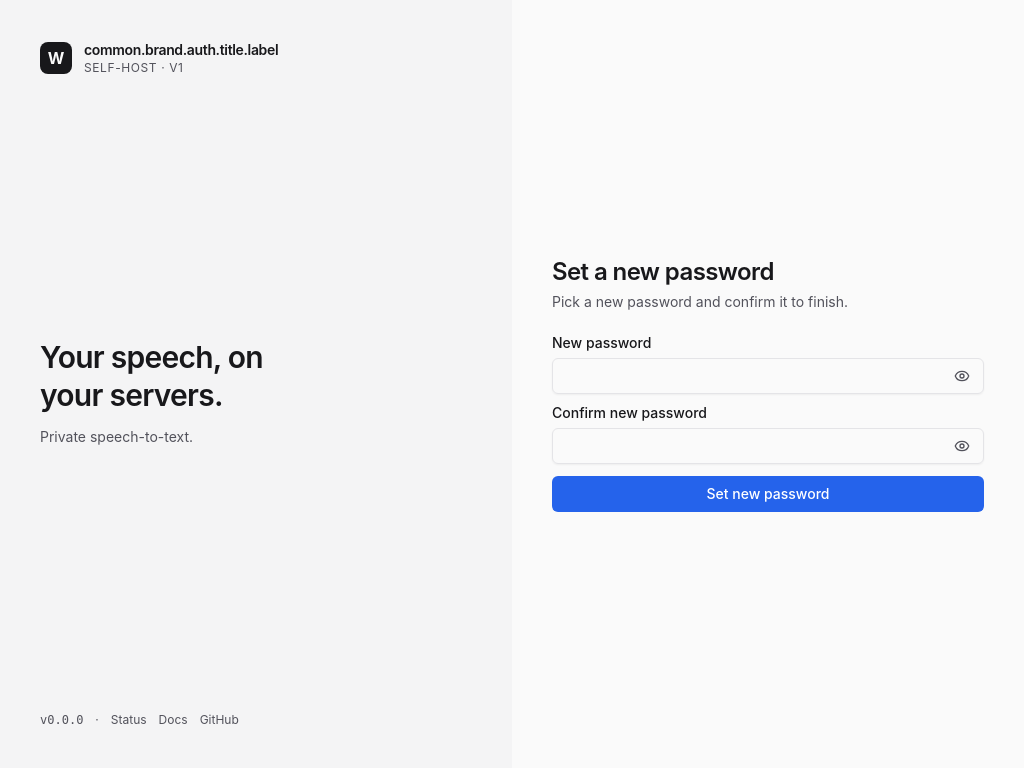
Scenario: ResetPasswordForm (Phase 55-01-a) › zod rejects mismatched newPassword / confirm
This screenshot has width=1024, height=768.
Type "Strong-Pass-9!" into the password field labelled "New password" at (768, 376), box [552,358,984,394]
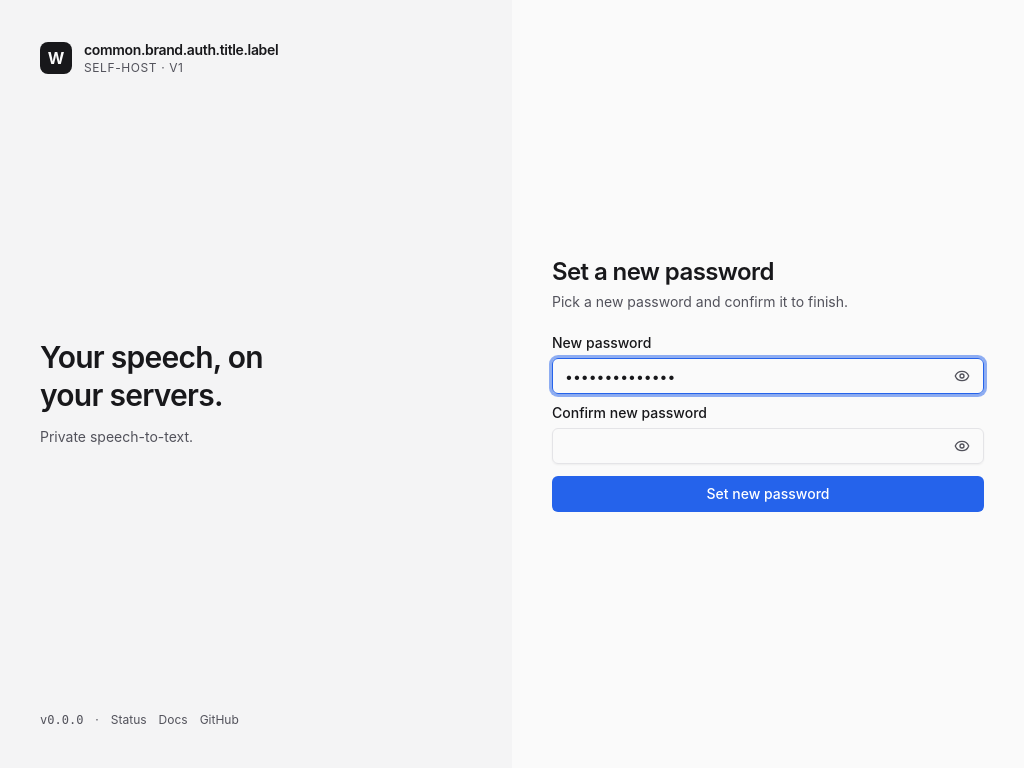
Type "Different-Pass-9!" into the password field labelled "Confirm new password" at (768, 446), box [552,428,984,464]
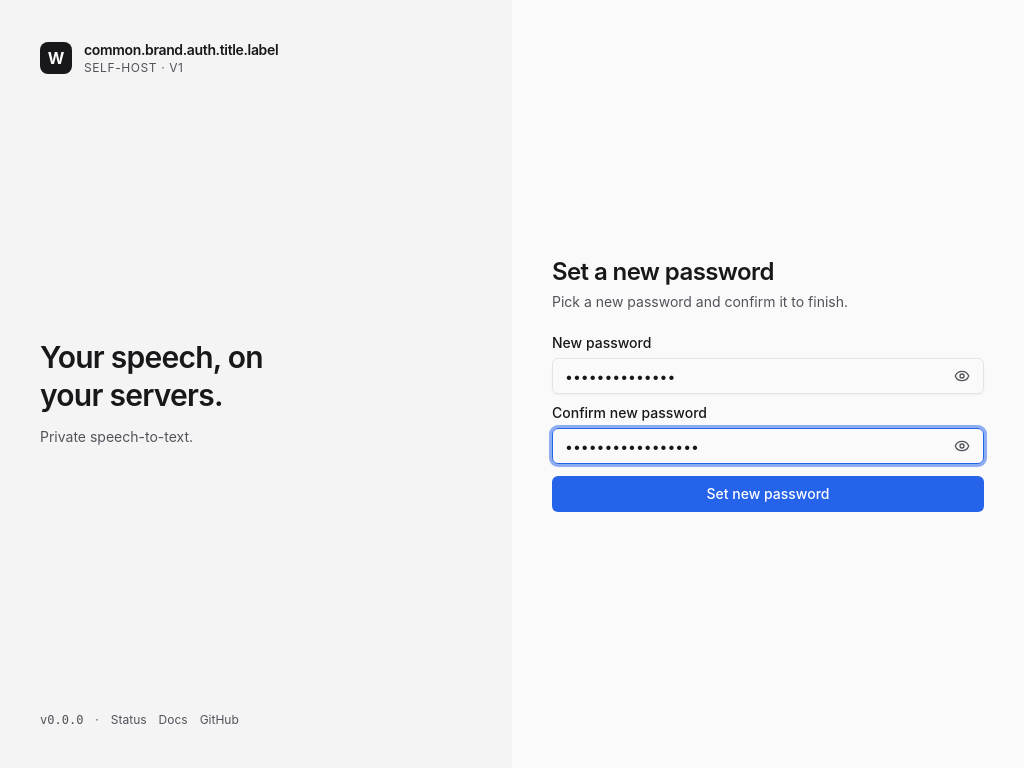
Click the button "Set new password" at (768, 494), box [552,476,984,512]
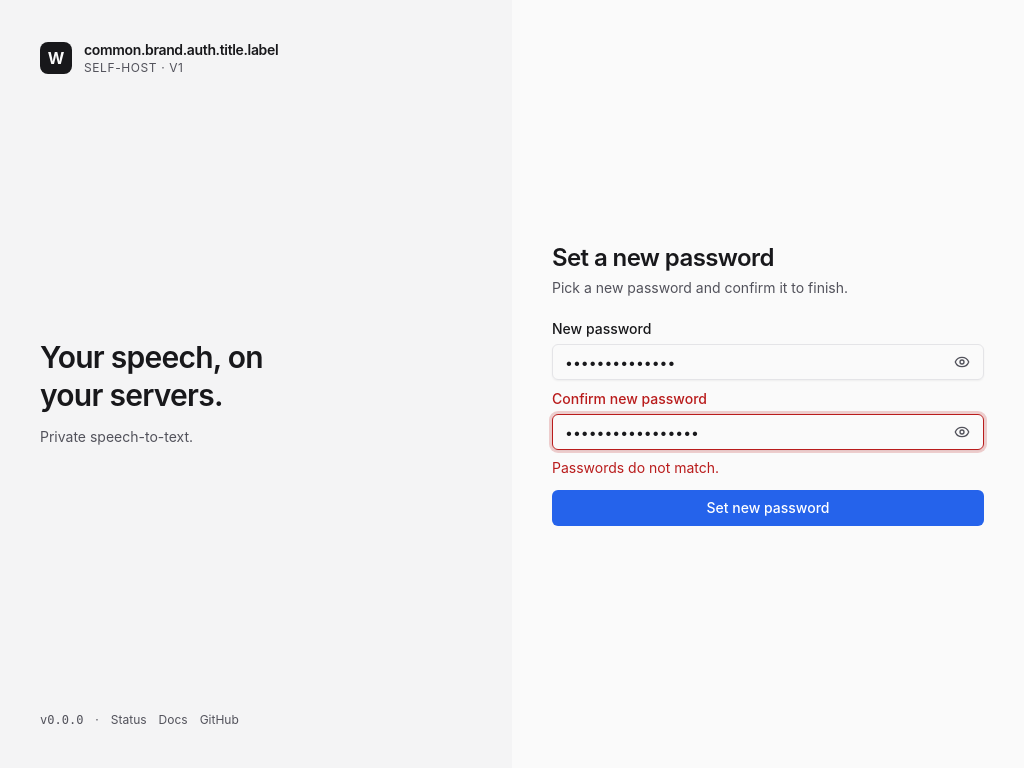
Result: the text "Passwords do not match." is shown at [552,459,719,476]
